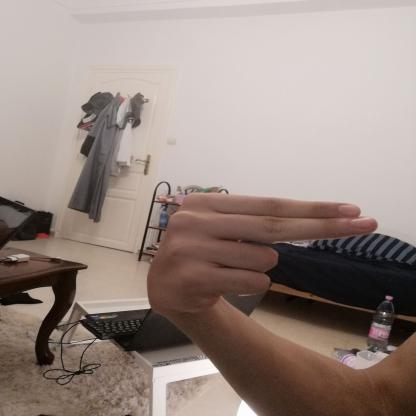AYN: (128, 180, 393, 330)
